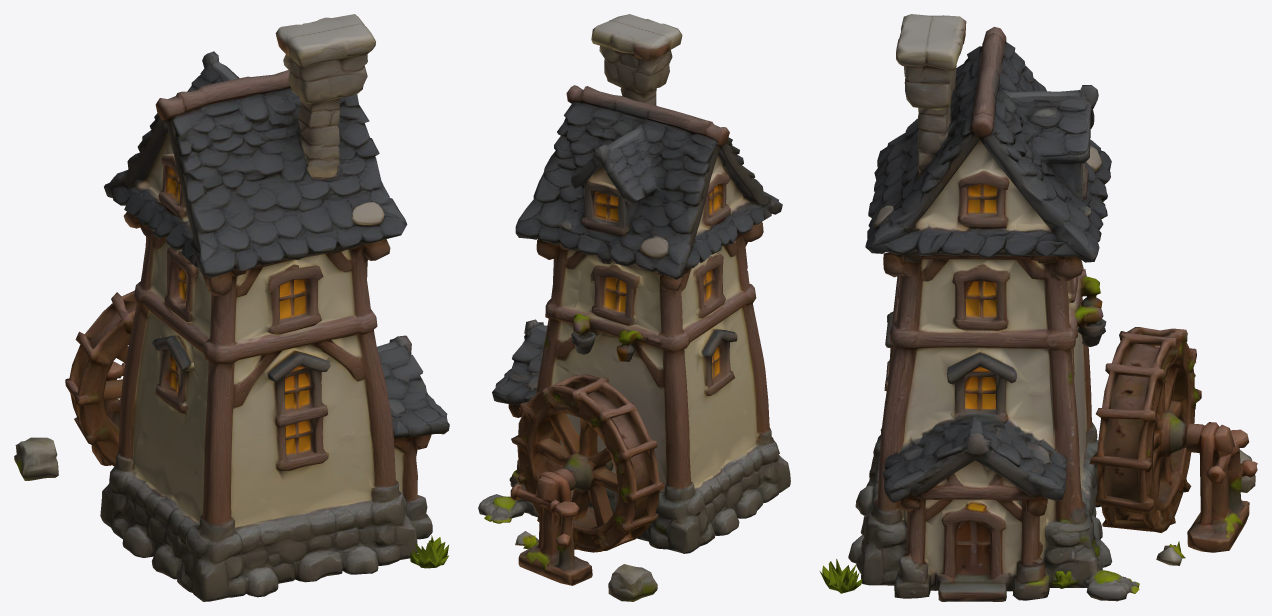
File: townWatermill.glb
The picture shows the model from 3 angles, left to right: view 1: azimuth 30°, elevation 25°; view 2: azimuth 150°, elevation 25°; view 3: azimuth 270°, elevation 25°; orthographic projection. The views are drawn at different scales.
Visible parts, largest first — view 1: pb_node; view 2: pb_node; view 3: pb_node.
Boxes of the visible parts, x1,y1,x2,y2 form: pb_node: (14,14,449,601); pb_node: (478,14,790,601); pb_node: (819,14,1257,601).
Bounding box in the file's own units: 0.5443 × 1 × 0.7571.
1 material, 1 textured.
